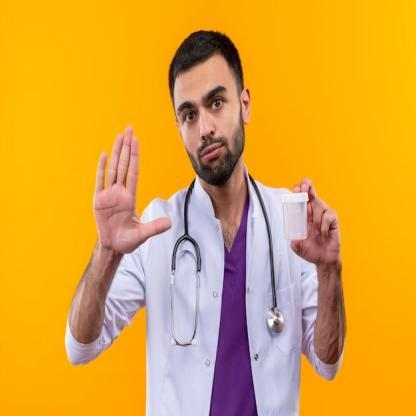stop: (90, 120, 173, 254)
